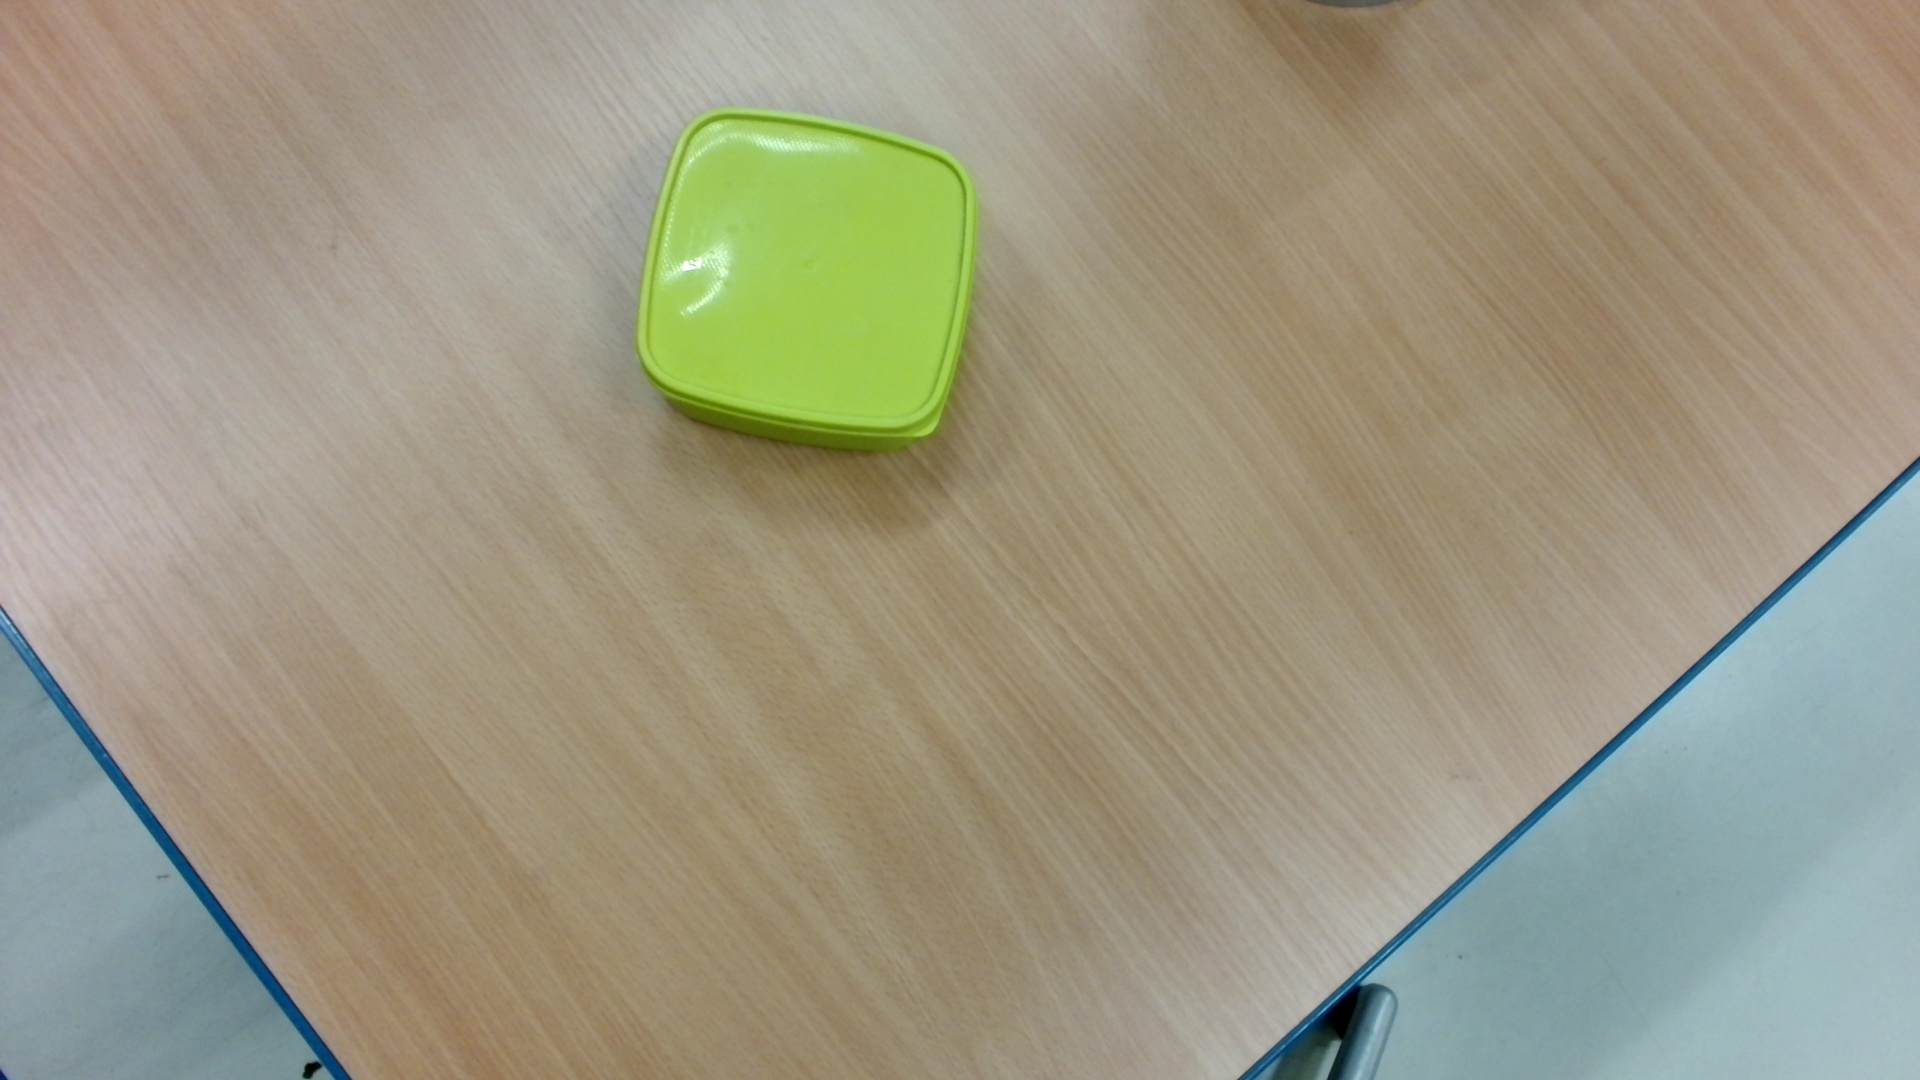Box: (629, 103, 984, 469)
